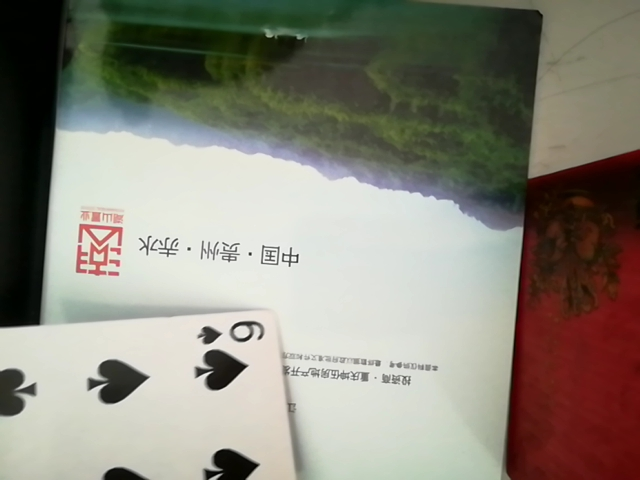ht 6: (0, 307, 317, 480)
